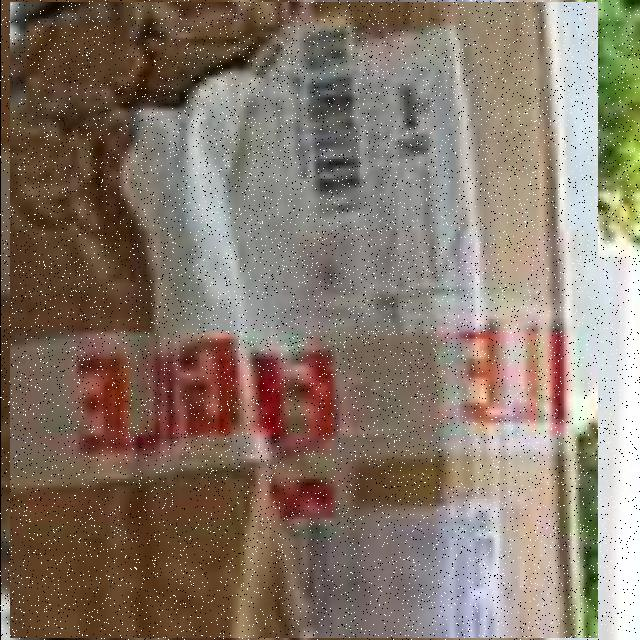defect: (9, 2, 597, 638)
